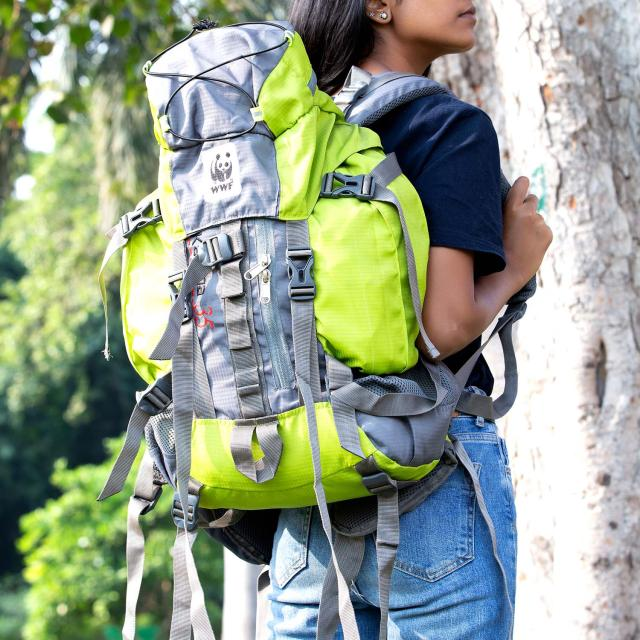backpack: (52, 16, 497, 535)
